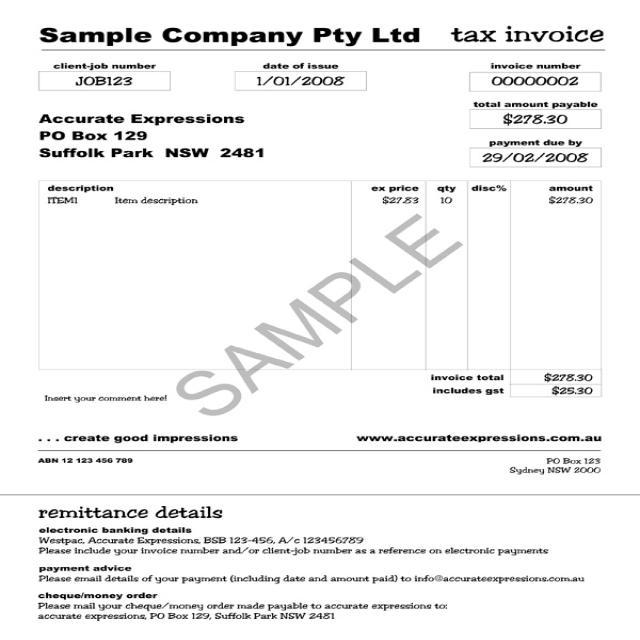ROI: (32, 502, 591, 631), (27, 175, 608, 227), (26, 17, 434, 50), (34, 107, 273, 162), (428, 364, 601, 405), (222, 55, 382, 95), (352, 428, 605, 449), (464, 53, 607, 90), (35, 59, 179, 95), (467, 99, 607, 130), (468, 136, 607, 167), (447, 24, 607, 47), (24, 429, 252, 445), (32, 383, 172, 408), (498, 454, 615, 482), (31, 452, 141, 469)
